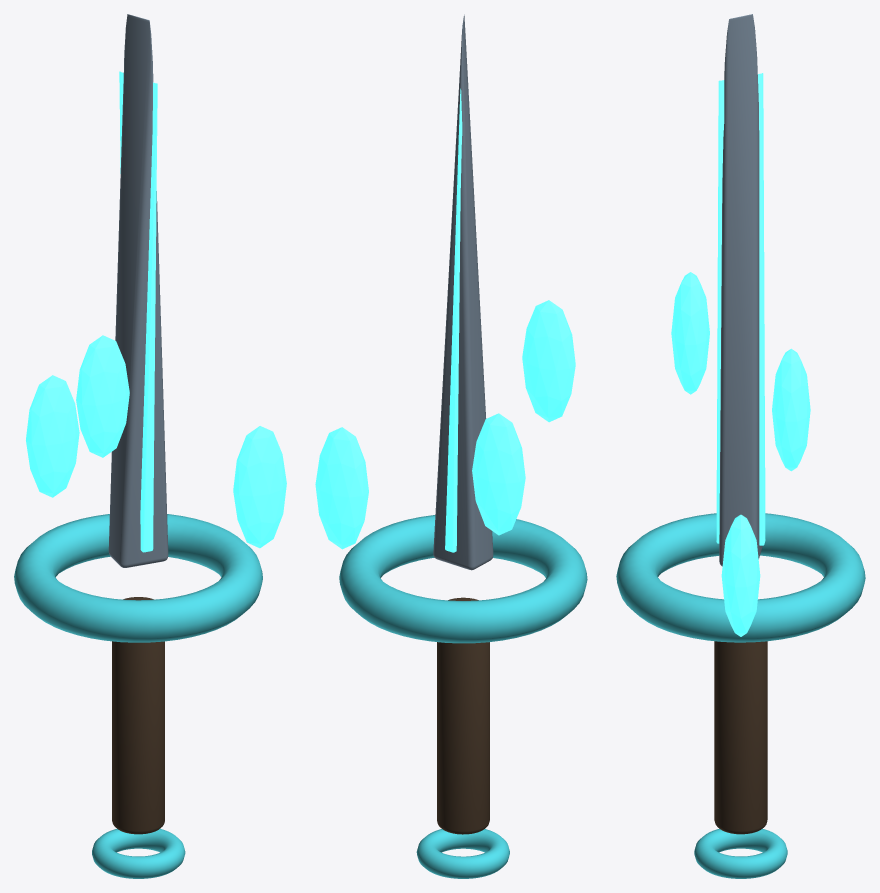
File: dagger_v6.glb
3 renders of one model, left to right at view 1: azimuth 30°, elevation 25°; view 2: azimuth 150°, elevation 25°; view 3: azimuth 270°, elevation 25°, orthographic.
Visible parts, largest first — view 1: STILETTO_NEEDLE_PRIMARY, STILETTO_GUARD_ACCENT, GRIP_SECONDARY, HELIX_SHARD_EMISSIVE.002, HELIX_SHARD_EMISSIVE, HELIX_SHARD_EMISSIVE.001, STILETTO_RIDGE_EMISSIVE, POMMEL_ACCENT; view 2: STILETTO_GUARD_ACCENT, STILETTO_NEEDLE_PRIMARY, GRIP_SECONDARY, HELIX_SHARD_EMISSIVE, HELIX_SHARD_EMISSIVE.001, HELIX_SHARD_EMISSIVE.002, POMMEL_ACCENT, STILETTO_RIDGE_EMISSIVE; view 3: STILETTO_NEEDLE_PRIMARY, STILETTO_GUARD_ACCENT, GRIP_SECONDARY, STILETTO_RIDGE_EMISSIVE, HELIX_SHARD_EMISSIVE.001, HELIX_SHARD_EMISSIVE.002, HELIX_SHARD_EMISSIVE, POMMEL_ACCENT.
Part boxes in pixels (x1,y1,x2,y2): STILETTO_NEEDLE_PRIMARY: [108, 14, 168, 567]; STILETTO_GUARD_ACCENT: [14, 514, 262, 642]; GRIP_SECONDARY: [112, 597, 164, 834]; HELIX_SHARD_EMISSIVE.002: [76, 335, 129, 457]; HELIX_SHARD_EMISSIVE: [233, 426, 286, 548]; HELIX_SHARD_EMISSIVE.001: [26, 375, 79, 497]; STILETTO_RIDGE_EMISSIVE: [119, 71, 157, 552]; POMMEL_ACCENT: [92, 828, 185, 878]; STILETTO_GUARD_ACCENT: [339, 515, 587, 643]; STILETTO_NEEDLE_PRIMARY: [433, 14, 493, 570]; GRIP_SECONDARY: [437, 597, 489, 834]; HELIX_SHARD_EMISSIVE: [315, 427, 368, 549]; HELIX_SHARD_EMISSIVE.001: [472, 413, 525, 535]; HELIX_SHARD_EMISSIVE.002: [522, 300, 575, 422]; POMMEL_ACCENT: [416, 829, 509, 878]; STILETTO_RIDGE_EMISSIVE: [445, 88, 462, 552]; STILETTO_NEEDLE_PRIMARY: [719, 14, 762, 566]; STILETTO_GUARD_ACCENT: [616, 513, 865, 642]; GRIP_SECONDARY: [714, 641, 767, 834]; STILETTO_RIDGE_EMISSIVE: [716, 73, 765, 545]; HELIX_SHARD_EMISSIVE.001: [772, 348, 810, 471]; HELIX_SHARD_EMISSIVE.002: [671, 272, 709, 394]; HELIX_SHARD_EMISSIVE: [721, 514, 760, 636]; POMMEL_ACCENT: [694, 828, 787, 878].
Size of the model in its own units: 1.21 by 3.86 by 1.03.
